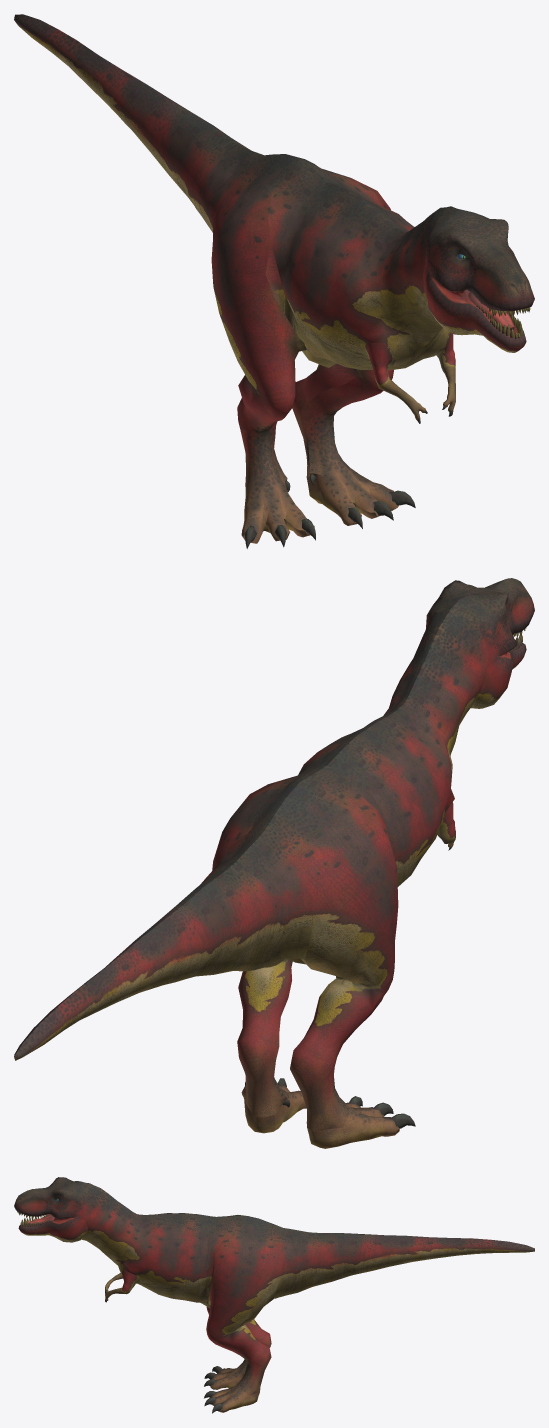
Rendered from T-Rex.obj.
3 views of the same model, one above another, from view 1: azimuth 30°, elevation 25°; view 2: azimuth 150°, elevation 25°; view 3: azimuth 270°, elevation 25° (orthographic). The views are drawn at different scales.
Visible parts, largest first — view 1: T_Rex; view 2: T_Rex; view 3: T_Rex.
Part boxes in pixels (left/top/right/bottom): T_Rex: left=14, top=14, right=534, bottom=548; T_Rex: left=14, top=578, right=534, bottom=1148; T_Rex: left=14, top=1177, right=534, bottom=1413.
Bounding box in the file's own units: 0.4972 × 1.17 × 2.6.
Materials: 1 (1 with a texture image).
